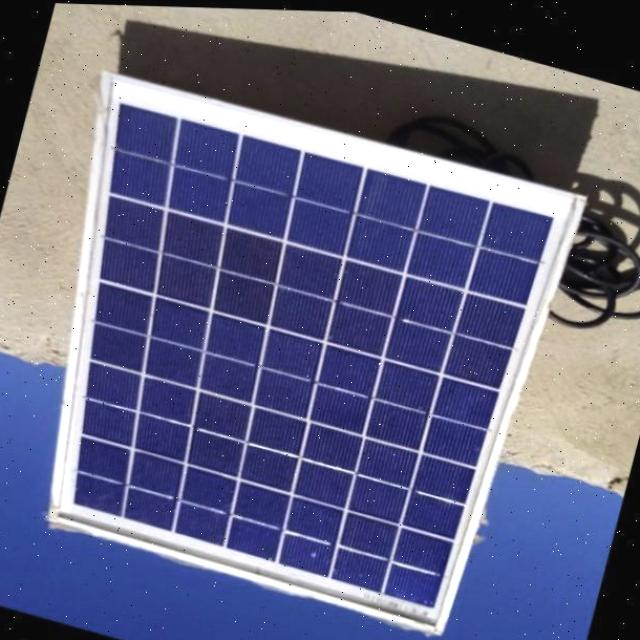Normal Solar Panel: (0, 60, 588, 640)
